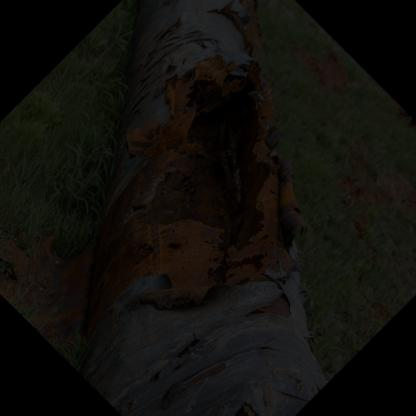burst: (138, 52, 316, 313)
